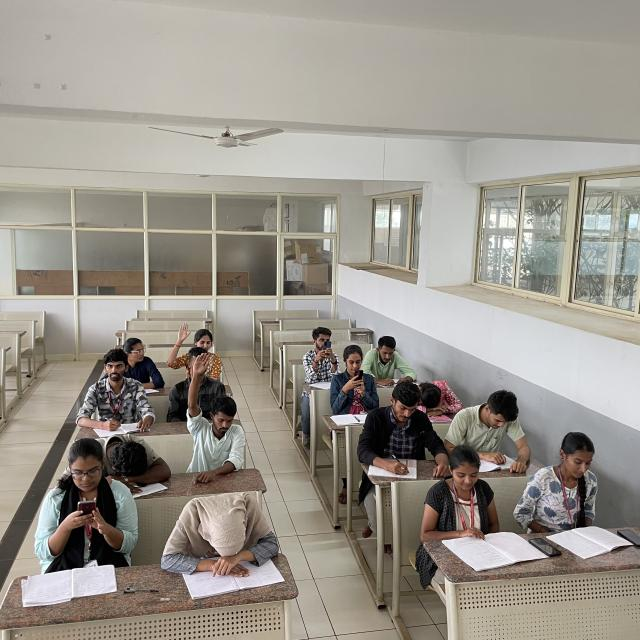Hand Rising: (185, 348, 246, 466), (167, 321, 225, 377)
Reading: (425, 444, 530, 566), (522, 430, 620, 548), (454, 386, 546, 469)
Sleeping: (166, 483, 283, 573), (98, 429, 176, 485), (415, 376, 464, 418)
Using Phone: (31, 440, 131, 560), (331, 342, 379, 409), (303, 326, 342, 382)
Writing: (362, 380, 444, 478), (74, 349, 152, 433), (368, 335, 419, 388)
